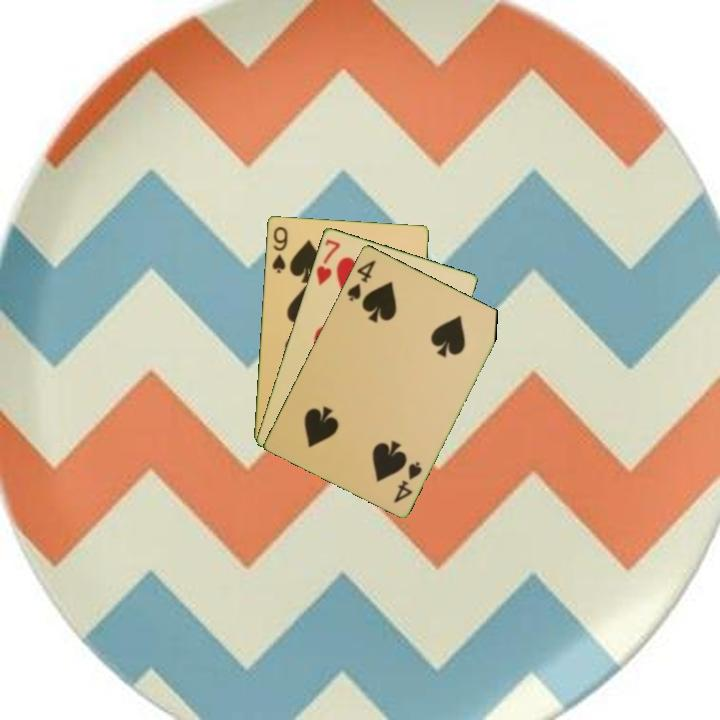4s: (343, 256, 379, 304), (390, 458, 425, 506)
7h: (313, 235, 343, 288)
9s: (268, 223, 290, 276)
